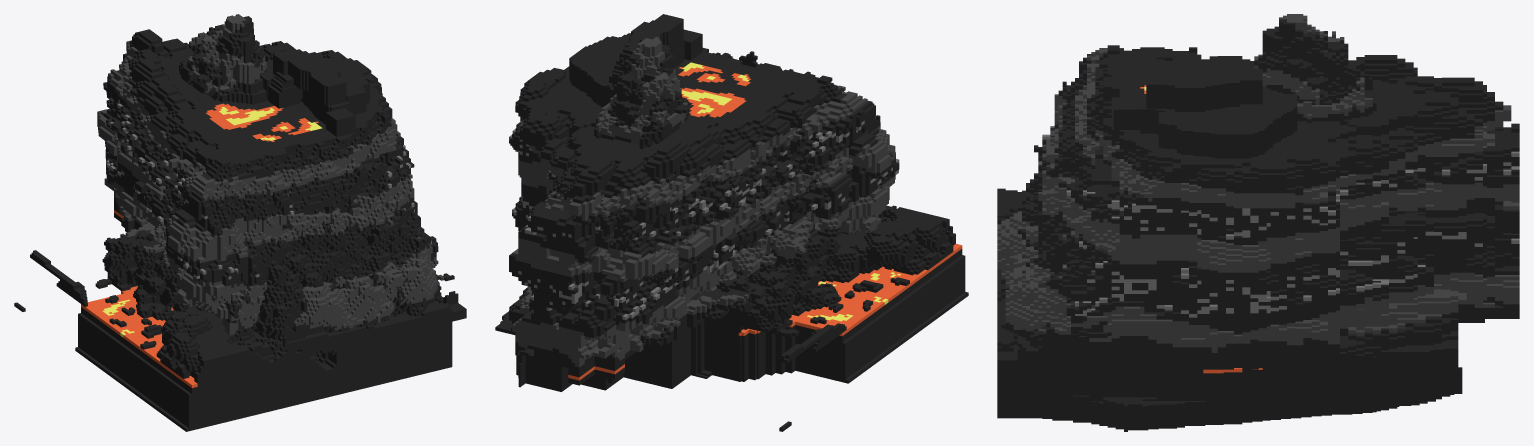
File: Lava_stuff-20.obj
The picture shows the model from 3 angles, left to right: view 1: azimuth 30°, elevation 25°; view 2: azimuth 150°, elevation 25°; view 3: azimuth 270°, elevation 25°; orthographic projection. The views are drawn at different scales.
Bounding box in the file's own units: 20.8 × 18.6 × 25.6.
Materials: 1 (1 with a texture image).
